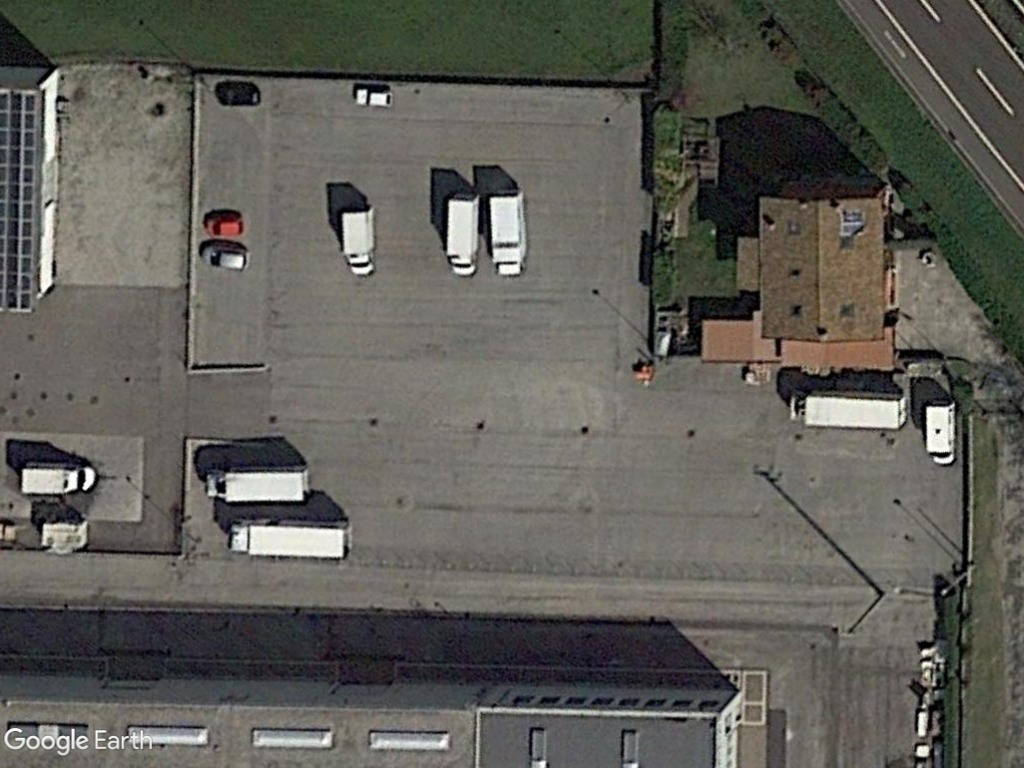car: (197, 240, 254, 274), (200, 212, 249, 240), (352, 85, 395, 111)
truck: (222, 515, 358, 568), (782, 380, 915, 434), (200, 463, 317, 509), (483, 188, 530, 278), (437, 190, 484, 279), (17, 458, 102, 499), (334, 203, 380, 278), (921, 398, 959, 469)
